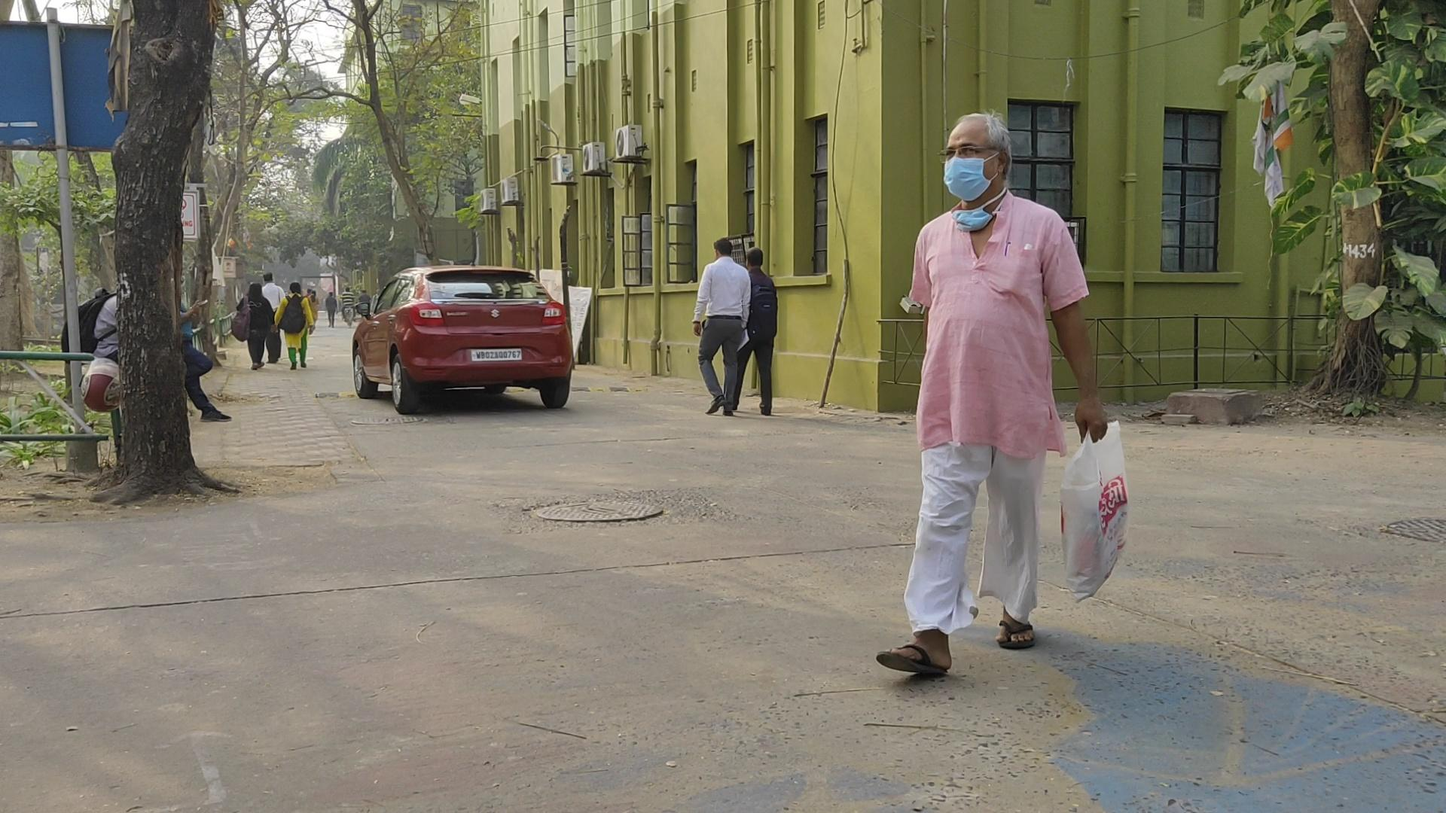car: (352, 263, 574, 416)
